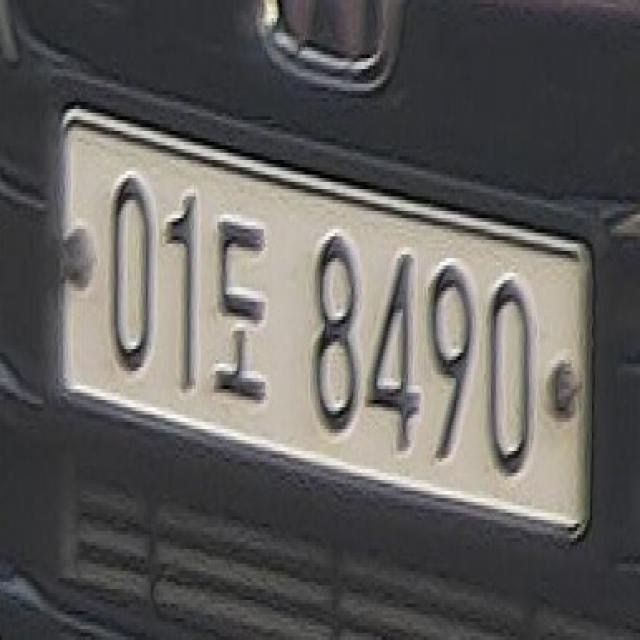0: (485, 260, 541, 490), (104, 163, 157, 397)
1: (163, 185, 198, 411)
4: (364, 238, 422, 466)
8: (305, 223, 362, 454)
9: (423, 248, 479, 474)
do: (200, 201, 280, 427)
license_plate: (56, 93, 602, 569)
